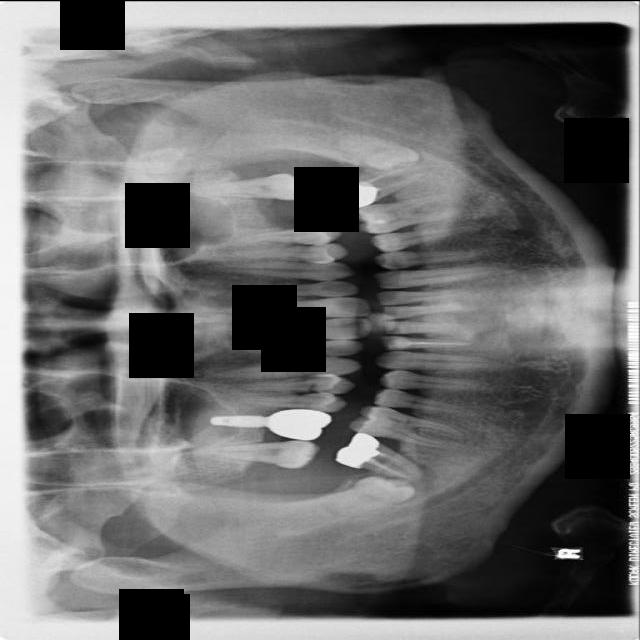52: (332, 424, 385, 477), (327, 166, 378, 215), (381, 336, 409, 349)
73: (345, 157, 433, 206), (356, 436, 429, 489), (400, 336, 473, 352), (612, 6, 620, 14)
BioHorizons Implant: (180, 172, 313, 199)
Biomet 3i Implant: (332, 124, 422, 179)
Blue Sky Bio Implant: (327, 158, 434, 213)
Caries: (194, 438, 319, 468)
Implant: (335, 425, 430, 488)
Keystone Dental Implant: (319, 462, 419, 523)
